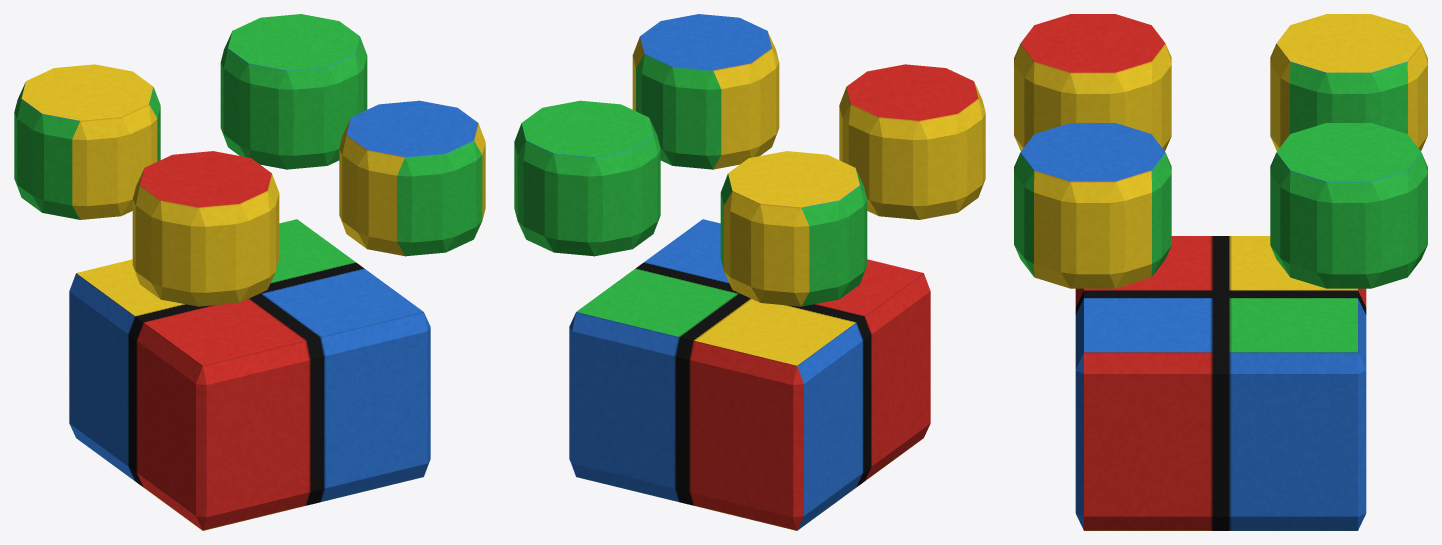
The model's file is ToyBlock.glb.
The picture shows the model from 3 angles, left to right: view 1: azimuth 30°, elevation 25°; view 2: azimuth 150°, elevation 25°; view 3: azimuth 270°, elevation 25°; orthographic projection. The views are drawn at different scales.
Visible parts, largest first — view 1: ToyBlock; view 2: ToyBlock; view 3: ToyBlock.
Boxes of the visible parts, left/top/right/bottom form: ToyBlock: left=14, top=14, right=485, bottom=530; ToyBlock: left=514, top=14, right=985, bottom=530; ToyBlock: left=1014, top=14, right=1427, bottom=530.
Size of the model in its own units: 1 by 1 by 1.
Materials: 1 (1 with a texture image).
